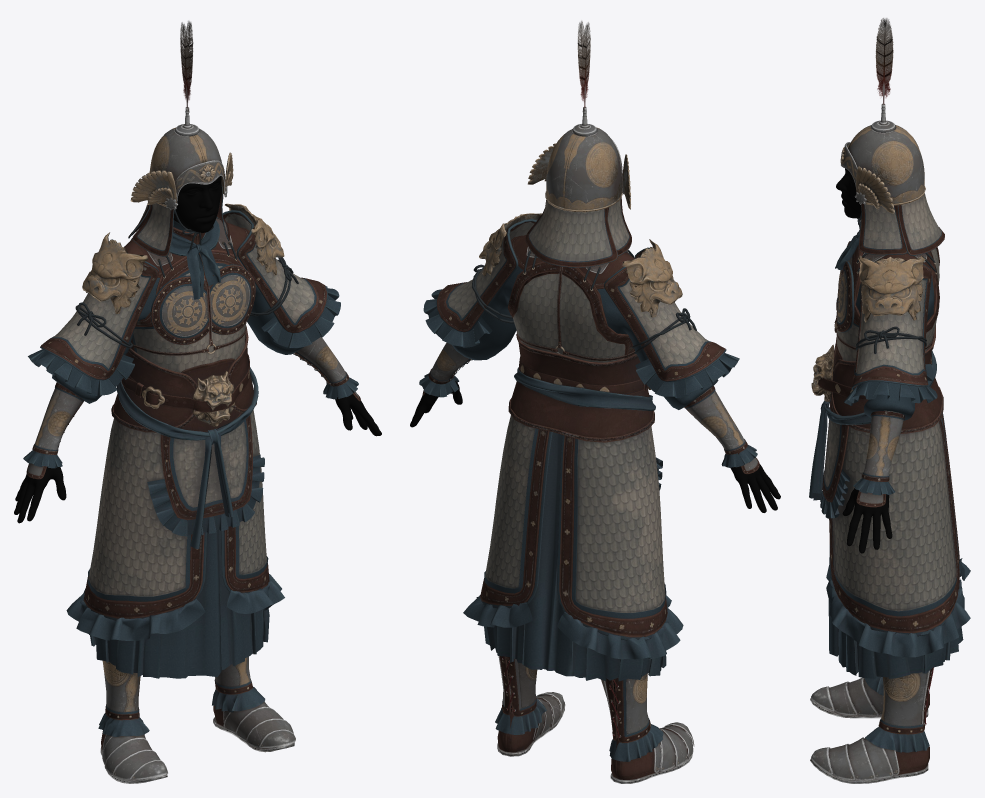
File: procedural_armor_2.0_test_4.glb
The picture shows the model from 3 angles, left to right: view 1: azimuth 30°, elevation 25°; view 2: azimuth 150°, elevation 25°; view 3: azimuth 270°, elevation 25°; orthographic projection.
Visible parts, largest first — view 1: Side_skirt1_low, fabric_low, skirt_low, Shoulder3_low, helmet_low, frskirt_low, chest_low, knot_low, shoes_low, relief_low, body_low, Waist_cushion1_low (+8 smaller); view 2: Side_skirt1_low, helmet_low, fabric_low, skirt_low, Shoulder3_low, Body_piece_low, Waist_cushion1_low, shoes_low, leg_low, relief_low, shirt_low, strap_low (+4 smaller); view 3: Side_skirt1_low, helmet_low, fabric_low, shoes_low, Shoulder3_low, relief_low, skirt_low, leg_low, Waist_cushion1_low, body_low, Arm_low, knot_low (+7 smaller).
Boxes of the visible parts, box(x1,y1,x2,y2) form: Side_skirt1_low: box(83, 409, 269, 620); fabric_low: box(23, 286, 358, 736); skirt_low: box(90, 529, 269, 678); Shoulder3_low: box(40, 210, 327, 380); helmet_low: box(128, 20, 233, 256); frskirt_low: box(160, 415, 252, 520); chest_low: box(150, 264, 255, 344); knot_low: box(116, 220, 258, 548); shoes_low: box(100, 701, 295, 783); relief_low: box(82, 203, 284, 313); body_low: box(14, 176, 381, 523); Waist_cushion1_low: box(111, 326, 256, 432); Side_skirt1_low: box(480, 415, 667, 640); helmet_low: box(525, 20, 631, 267); fabric_low: box(419, 289, 757, 761); skirt_low: box(484, 432, 666, 681); Shoulder3_low: box(436, 219, 726, 382); Body_piece_low: box(507, 253, 634, 364); Waist_cushion1_low: box(508, 334, 654, 442); shoes_low: box(497, 692, 694, 783); leg_low: box(498, 656, 651, 742); relief_low: box(479, 213, 682, 317); shirt_low: box(452, 266, 718, 409); strap_low: box(472, 250, 696, 394); Side_skirt1_low: box(829, 413, 959, 636); helmet_low: box(840, 18, 944, 255); fabric_low: box(820, 364, 970, 752); shoes_low: box(810, 677, 929, 783); Shoulder3_low: box(851, 221, 931, 389); relief_low: box(858, 219, 925, 322); skirt_low: box(828, 545, 963, 678); leg_low: box(878, 667, 933, 734); Waist_cushion1_low: box(830, 325, 943, 433); body_low: box(836, 168, 892, 553); Arm_low: box(861, 410, 904, 481); knot_low: box(809, 230, 936, 500).
Size of the model in its own units: 1.1 by 2.13 by 0.4307.
4 materials, 4 textured.
